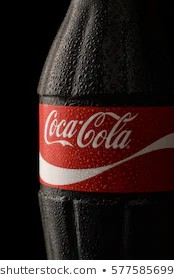coke-glass-bottle: (38, 1, 172, 260)
